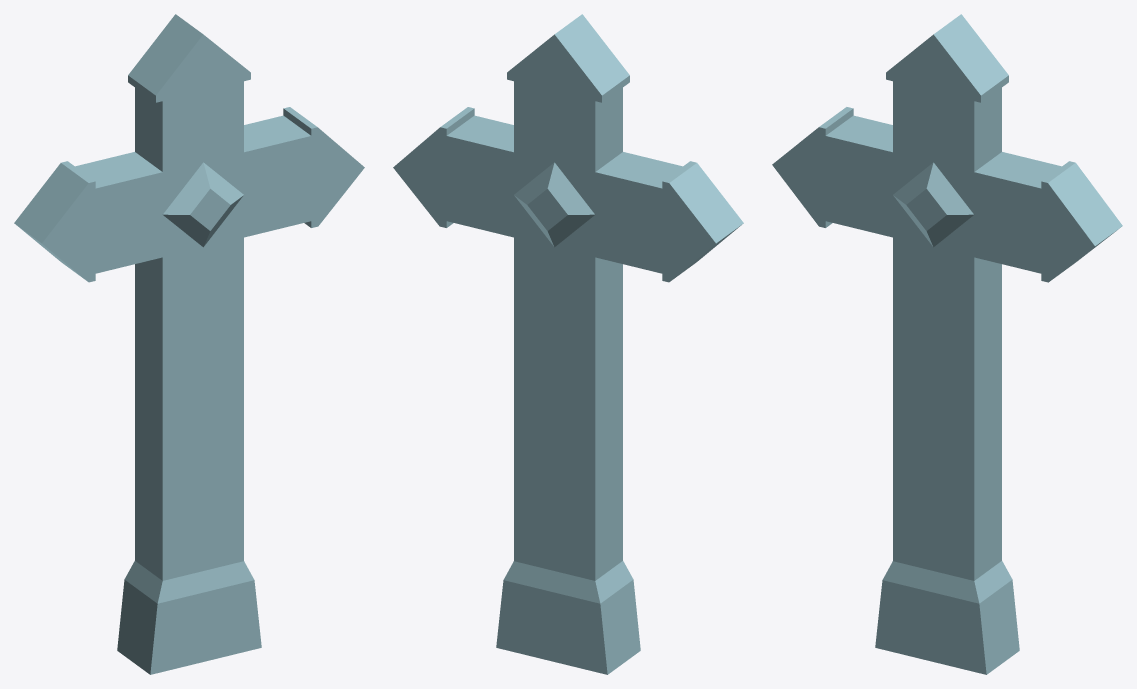
The model's file is cross.obj.
3 views of the same model, side by side, from view 1: azimuth 30°, elevation 25°; view 2: azimuth 150°, elevation 25°; view 3: azimuth 330°, elevation 25° (orthographic).
Parts seen in each view (by area): view 1: cross; view 2: cross; view 3: cross.
Part boxes in pixels (bbox=[...]): cross: bbox=[14, 14, 364, 674]; cross: bbox=[393, 14, 743, 674]; cross: bbox=[772, 14, 1122, 674].
Bounding box in the file's own units: 0.5355 × 0.99 × 0.12.
